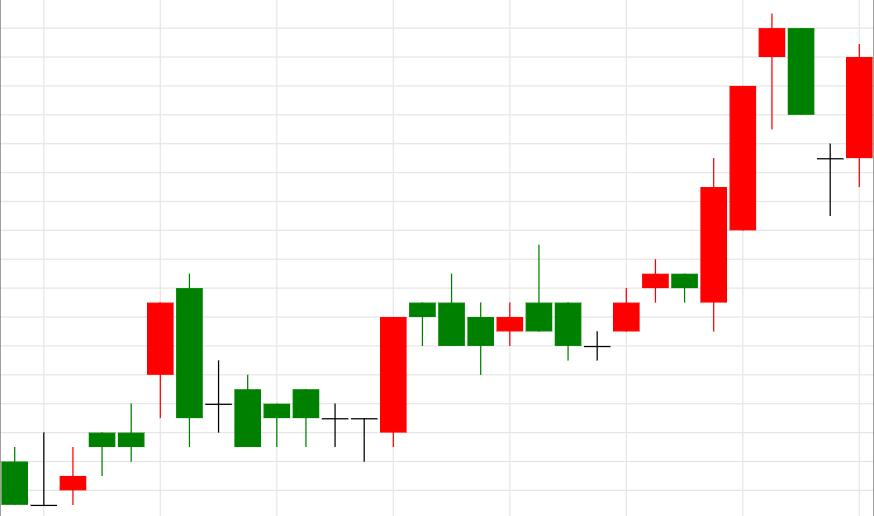bearish_engulfing_fall: (1, 273, 204, 507)
